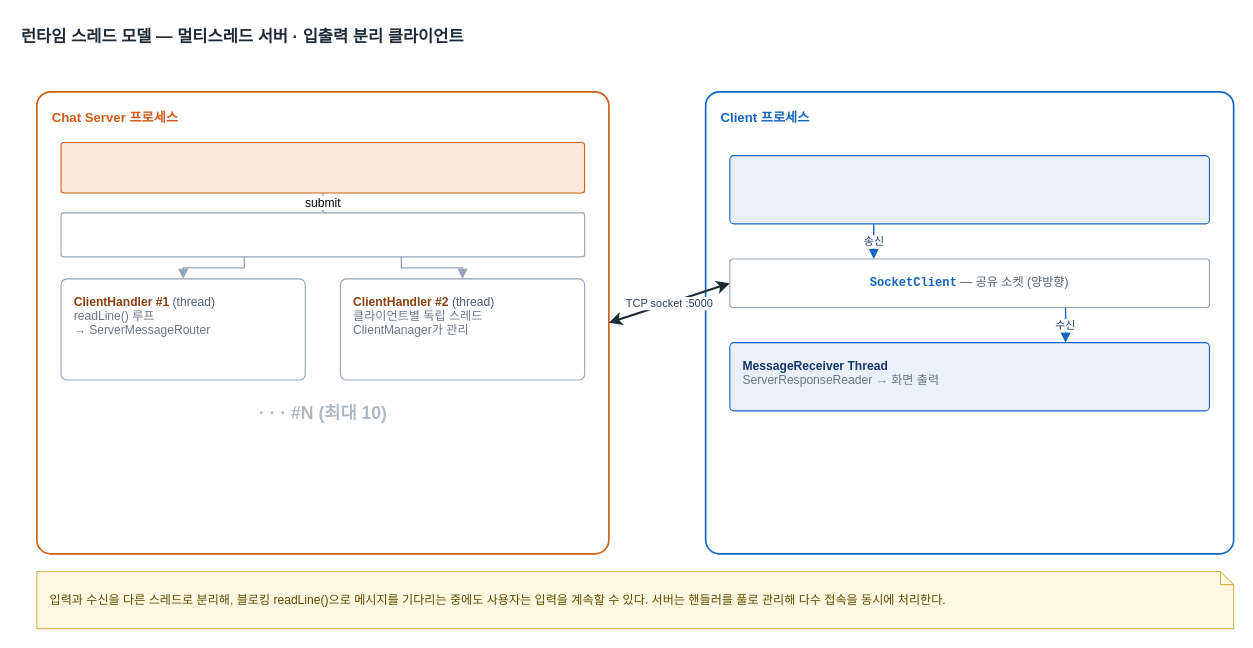
Some shapes in this 1253 by 648 pixel diagram are drawn without their labels. The centre of each missing label's shape, as x and y in pixels:
"FixedThreadPool(10)" belongs at (322,234).
"Main (UI) Thread ConsoleUI 입력 → MessageSender" belongs at (969,189).
"MainThread — ServerSocket(:5000).accept()" belongs at (322,167).
